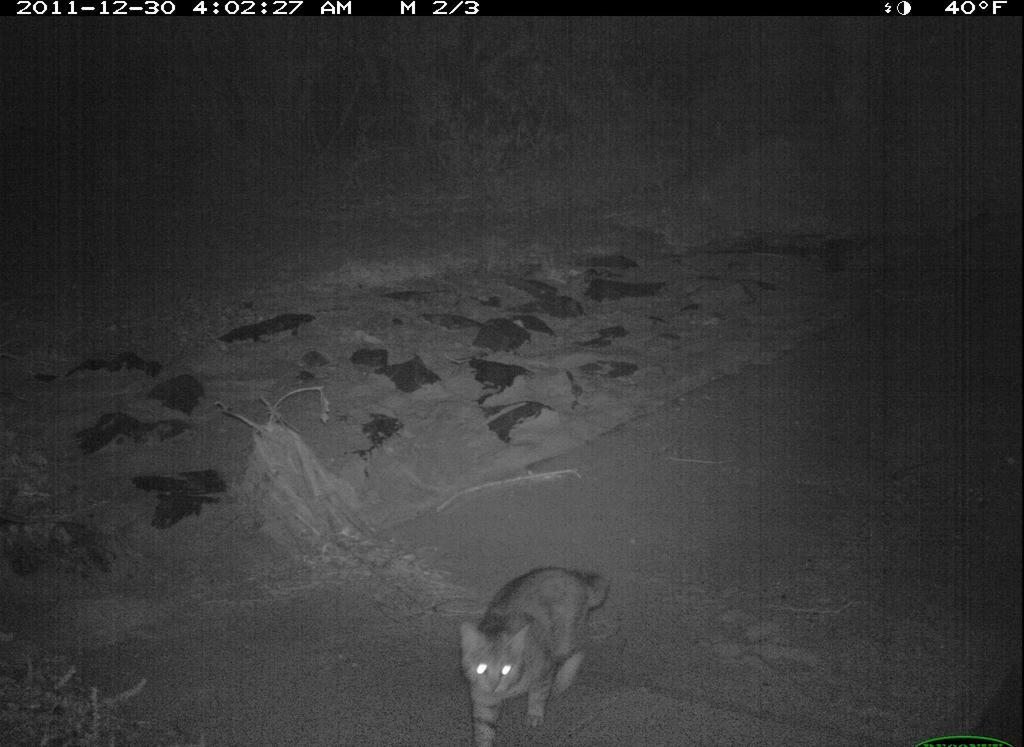cat: (417, 543, 638, 747)
